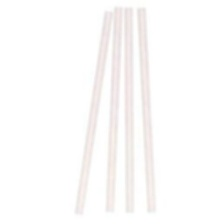drinking_straw: (70, 7, 115, 218), (99, 3, 125, 215), (134, 3, 159, 216)
